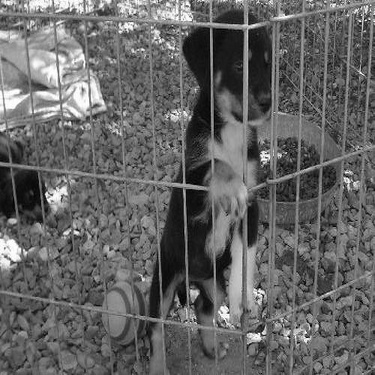dog: (134, 6, 278, 374), (1, 131, 51, 225)
